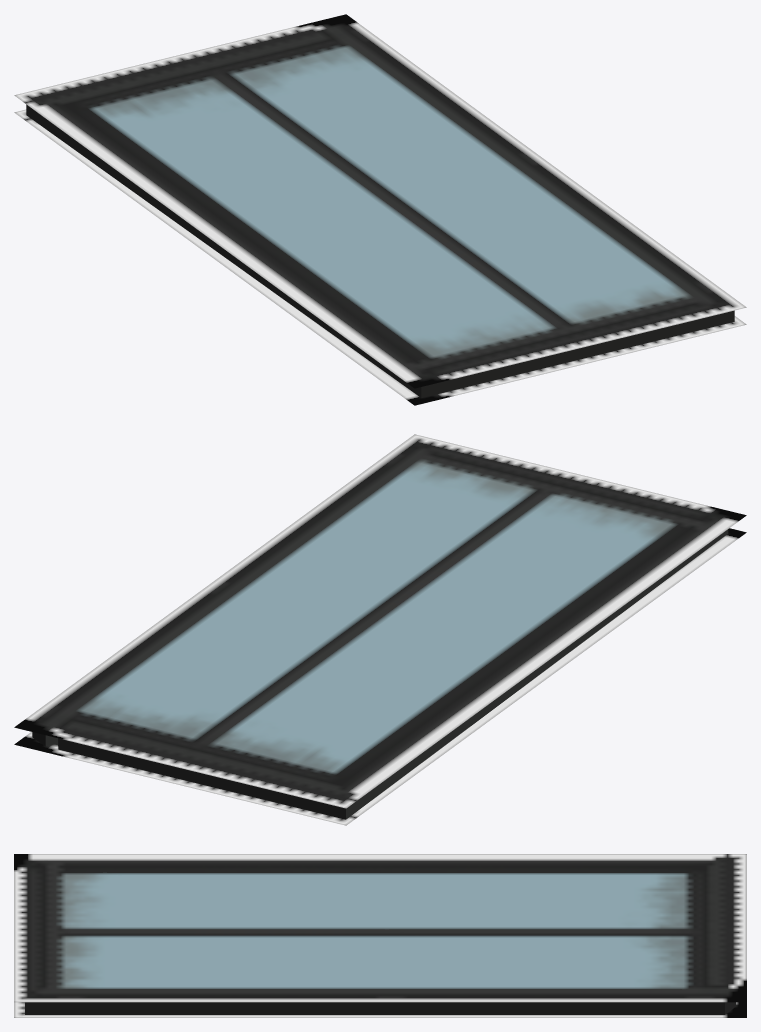
File: pz_native_fixtures_windows_metal_11_frame.obj
The picture shows the model from 3 angles, top to bottom: view 1: azimuth 30°, elevation 25°; view 2: azimuth 150°, elevation 25°; view 3: azimuth 270°, elevation 25°; orthographic projection. The views are drawn at different scales.
Visible parts, largest first — view 1: pz_native_fixtures_windows_metal_11_frame; view 2: pz_native_fixtures_windows_metal_11_frame; view 3: pz_native_fixtures_windows_metal_11_frame.
Boxes of the visible parts, <box> form: pz_native_fixtures_windows_metal_11_frame: <box>14,14,746,405</box>; pz_native_fixtures_windows_metal_11_frame: <box>14,434,746,825</box>; pz_native_fixtures_windows_metal_11_frame: <box>14,854,746,1017</box>.
Bounding box in the file's own units: 0.8125 × 0.04 × 1.7.
Materials: 1 (1 with a texture image).
